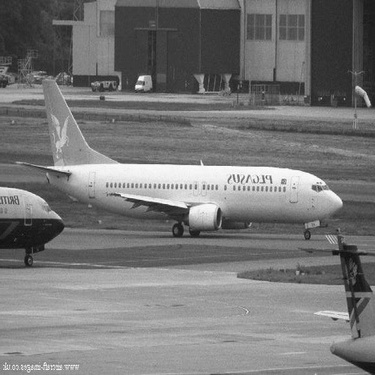airplane: (19, 79, 346, 241), (1, 187, 79, 269), (329, 234, 374, 370)
car: (132, 72, 164, 96), (91, 73, 118, 96)
